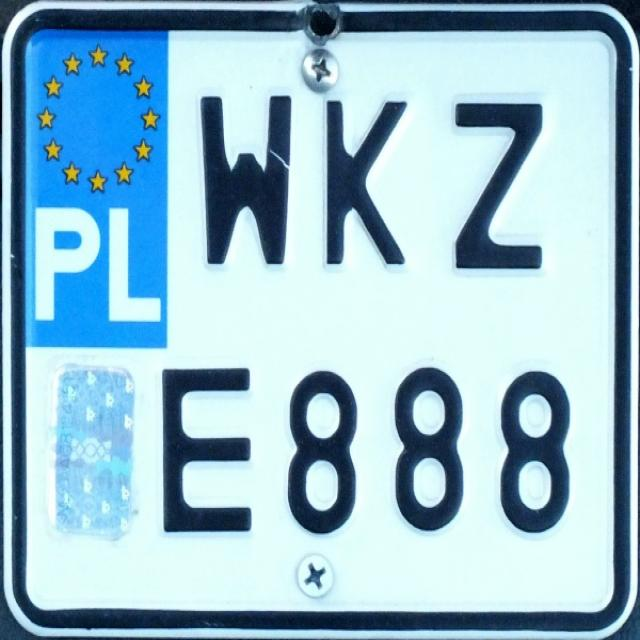pl_license_plate: (25, 28, 612, 610)
